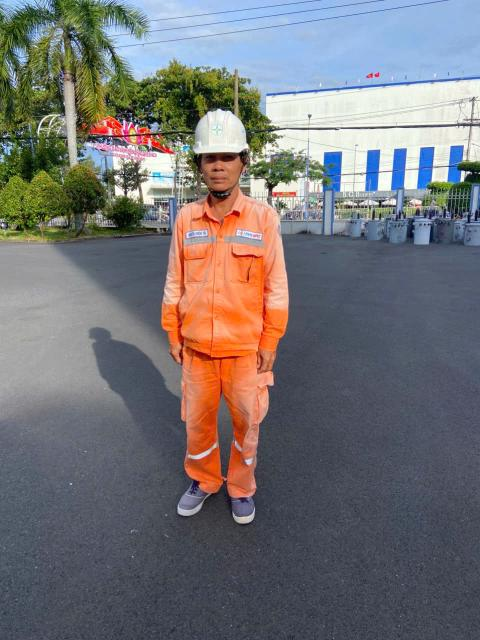helmet: (183, 107, 252, 171)
shoes: (173, 466, 220, 519), (225, 476, 258, 528)
